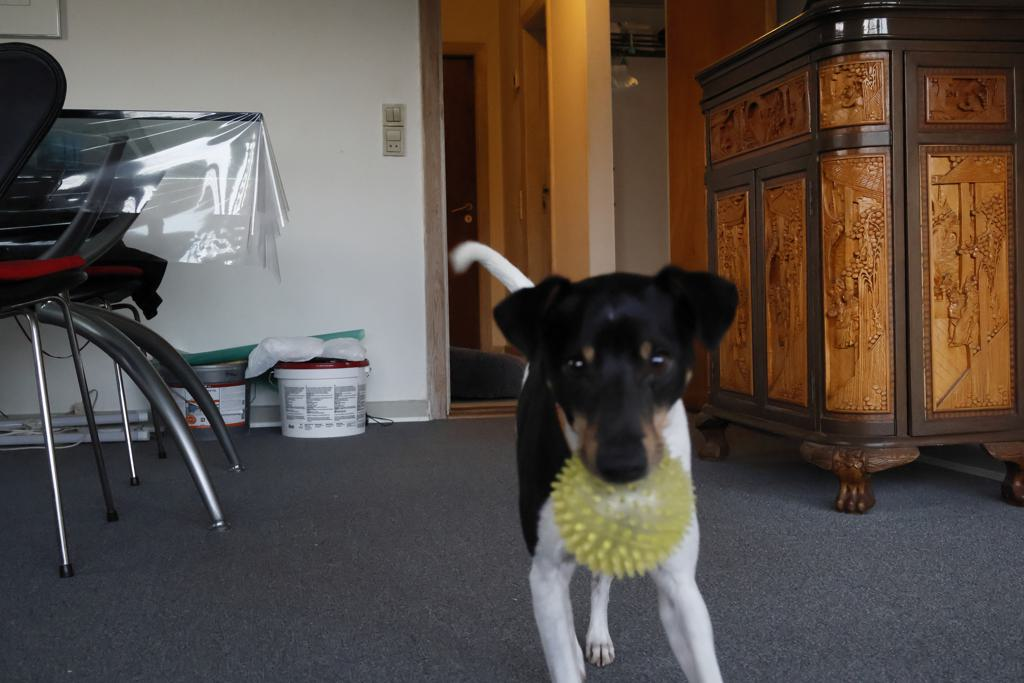Dog: (440, 226, 757, 683)
